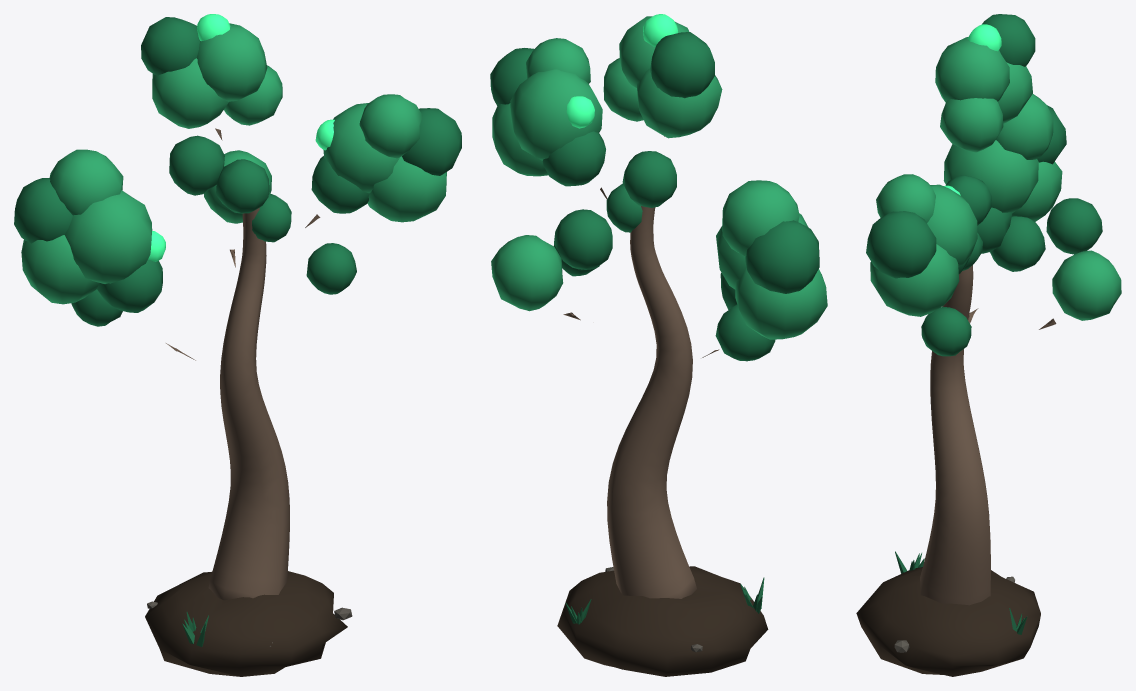
Rendered from garden-canopy.glb.
The picture shows the model from 3 angles, left to right: view 1: azimuth 30°, elevation 25°; view 2: azimuth 150°, elevation 25°; view 3: azimuth 270°, elevation 25°; orthographic projection. The views are drawn at different scales.
Parts seen in each view (by area): view 1: garden-canopy; view 2: garden-canopy; view 3: garden-canopy.
Part boxes in pixels (<box>): garden-canopy: <box>14,14,461,676</box>; garden-canopy: <box>490,14,827,676</box>; garden-canopy: <box>856,14,1121,676</box>.
Size of the model in its own units: 1.32 by 2.16 by 0.8323.
